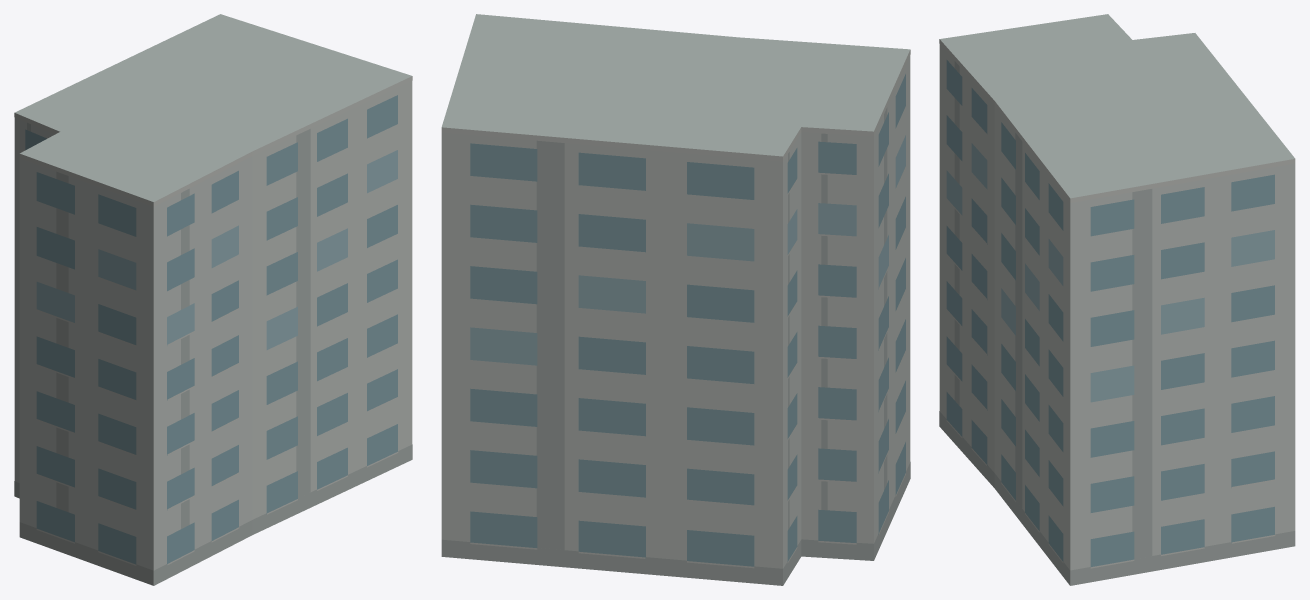
The model's file is survey-upis-32761941.glb.
3 views of the same model, side by side, from view 1: azimuth 30°, elevation 25°; view 2: azimuth 150°, elevation 25°; view 3: azimuth 270°, elevation 25° (orthographic). The views are drawn at different scales.
Parts seen in each view (by area): view 1: survey-upis-32761941.tmp; view 2: survey-upis-32761941.tmp; view 3: survey-upis-32761941.tmp.
Boxes of the visible parts, x1,y1,x2,y2 form: survey-upis-32761941.tmp: [14, 14, 412, 585]; survey-upis-32761941.tmp: [441, 14, 910, 585]; survey-upis-32761941.tmp: [939, 14, 1295, 585].
Size of the model in its own units: 20.32 by 19.9 by 16.57.
